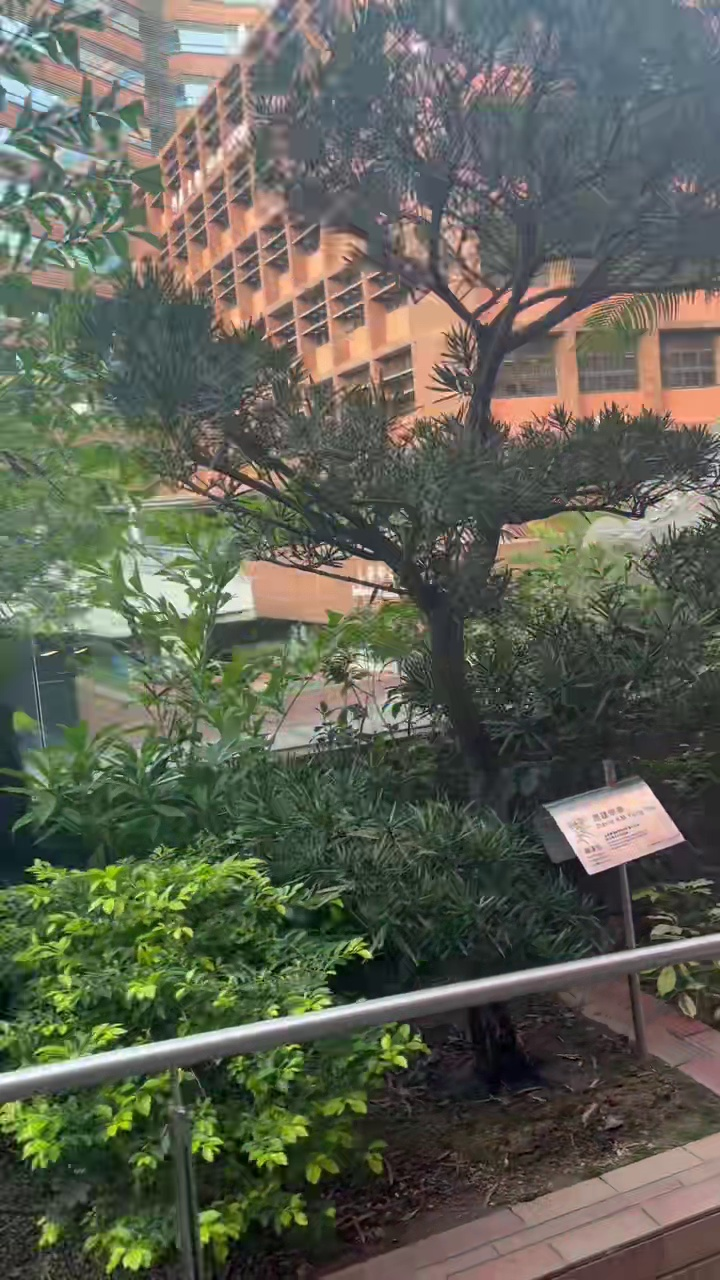Podocarpus macrophyllus: (77, 0, 719, 794)
